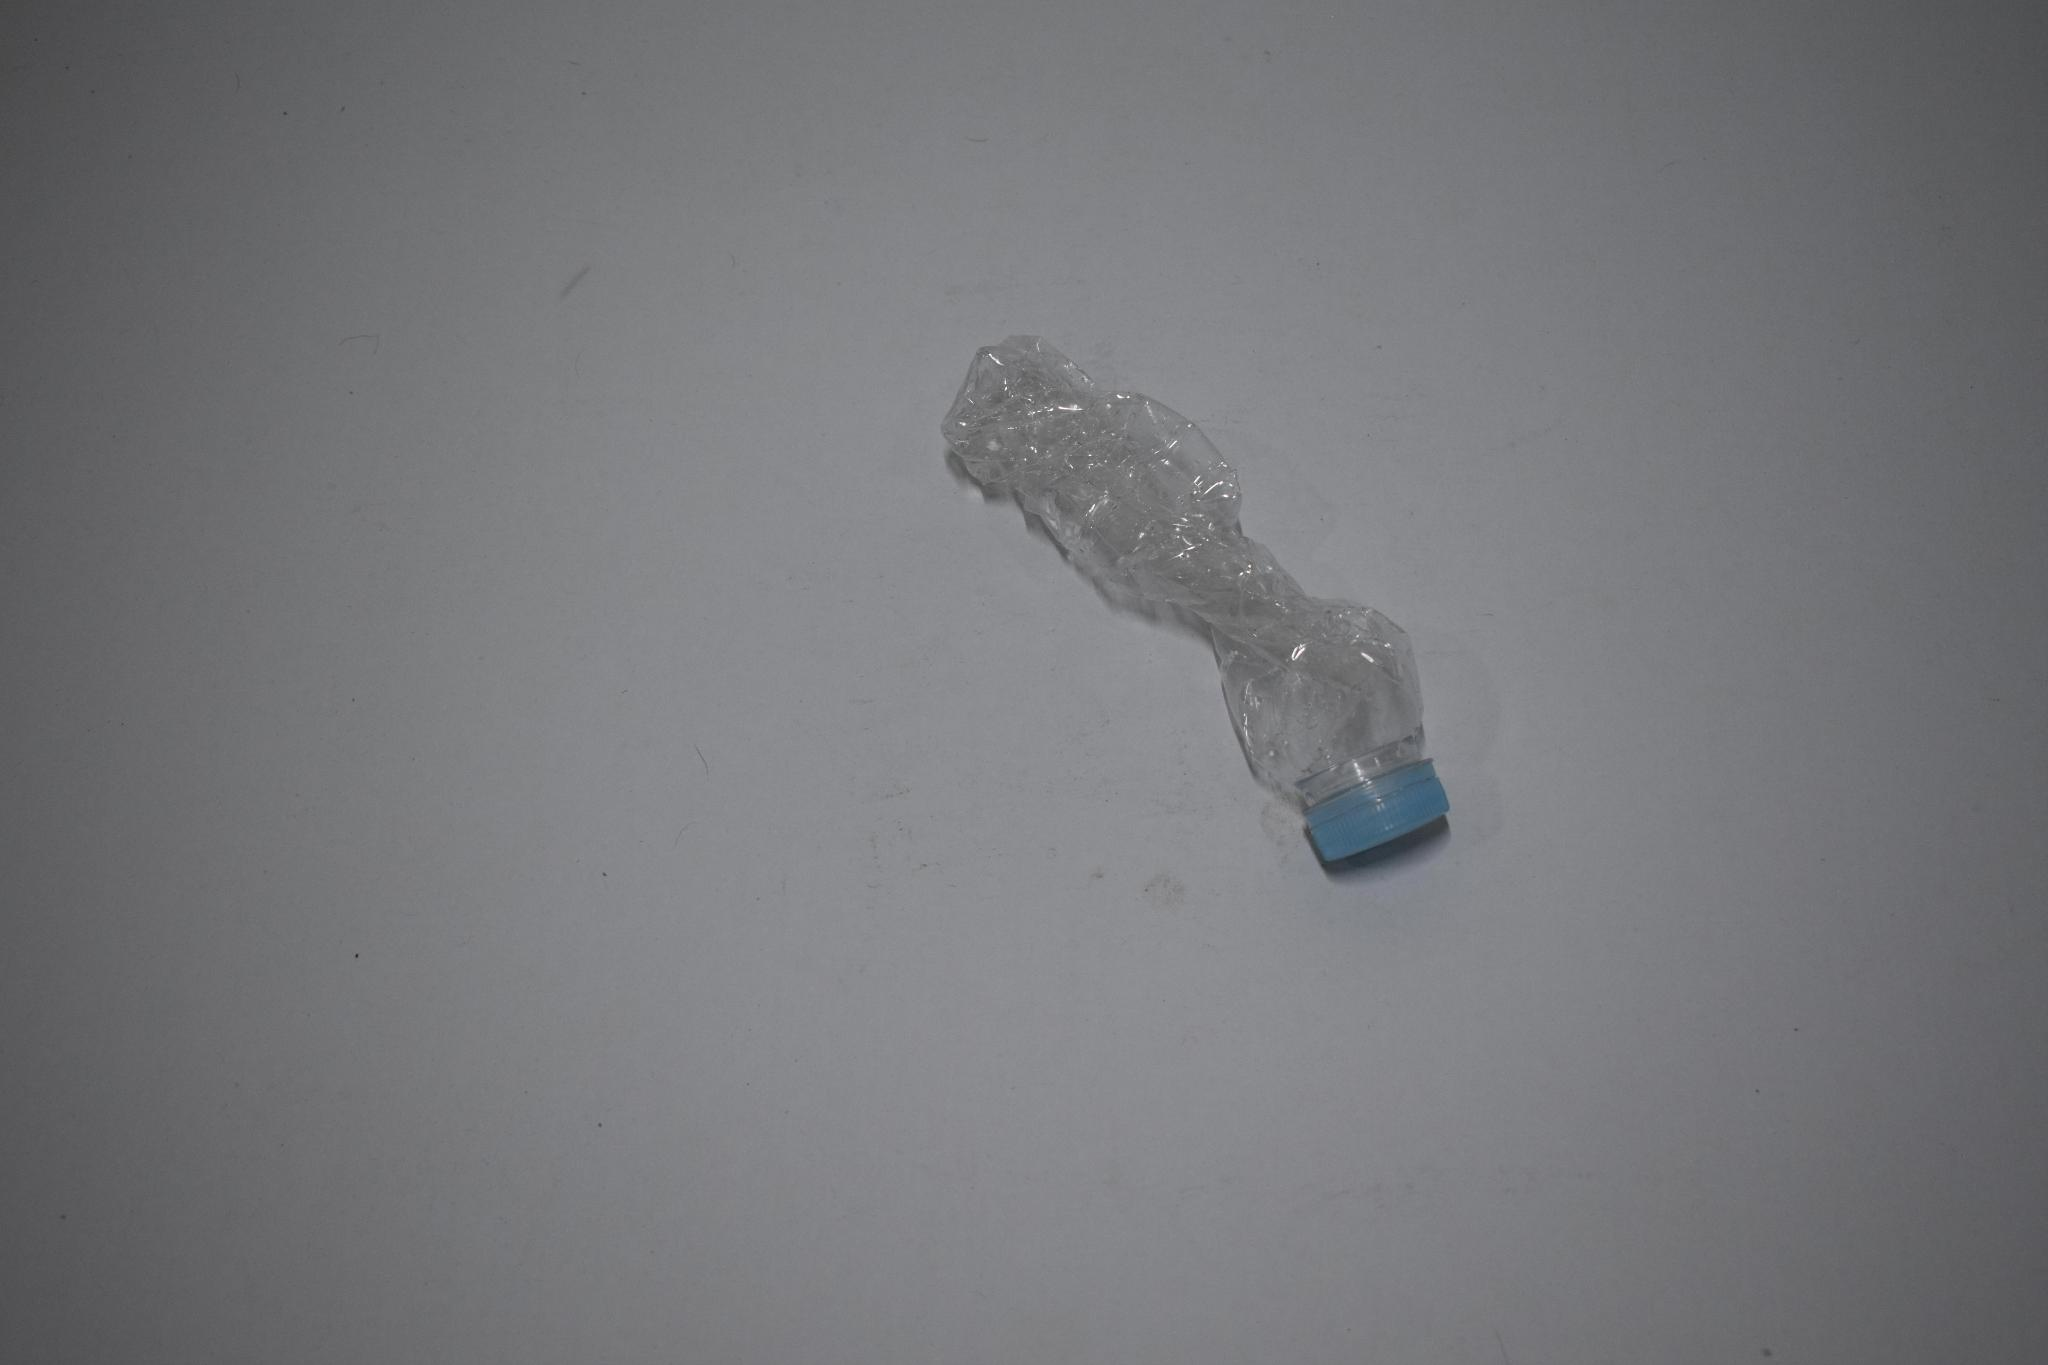bottle: (923, 286, 1477, 890)
